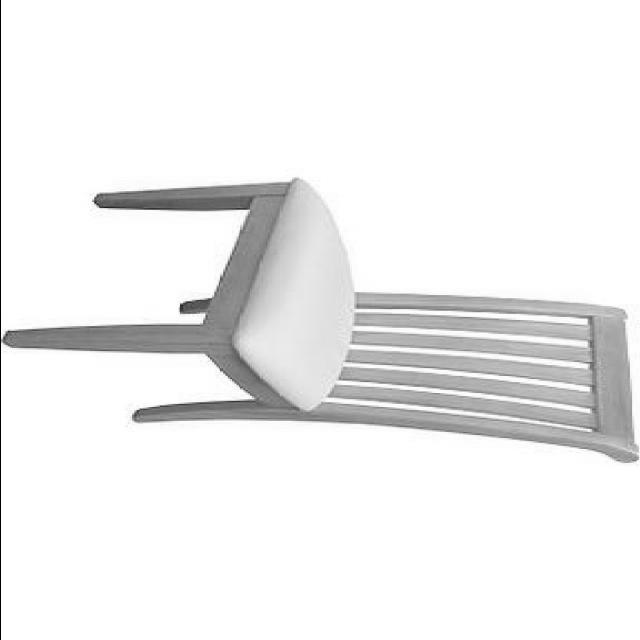chair: (1, 176, 640, 464)
